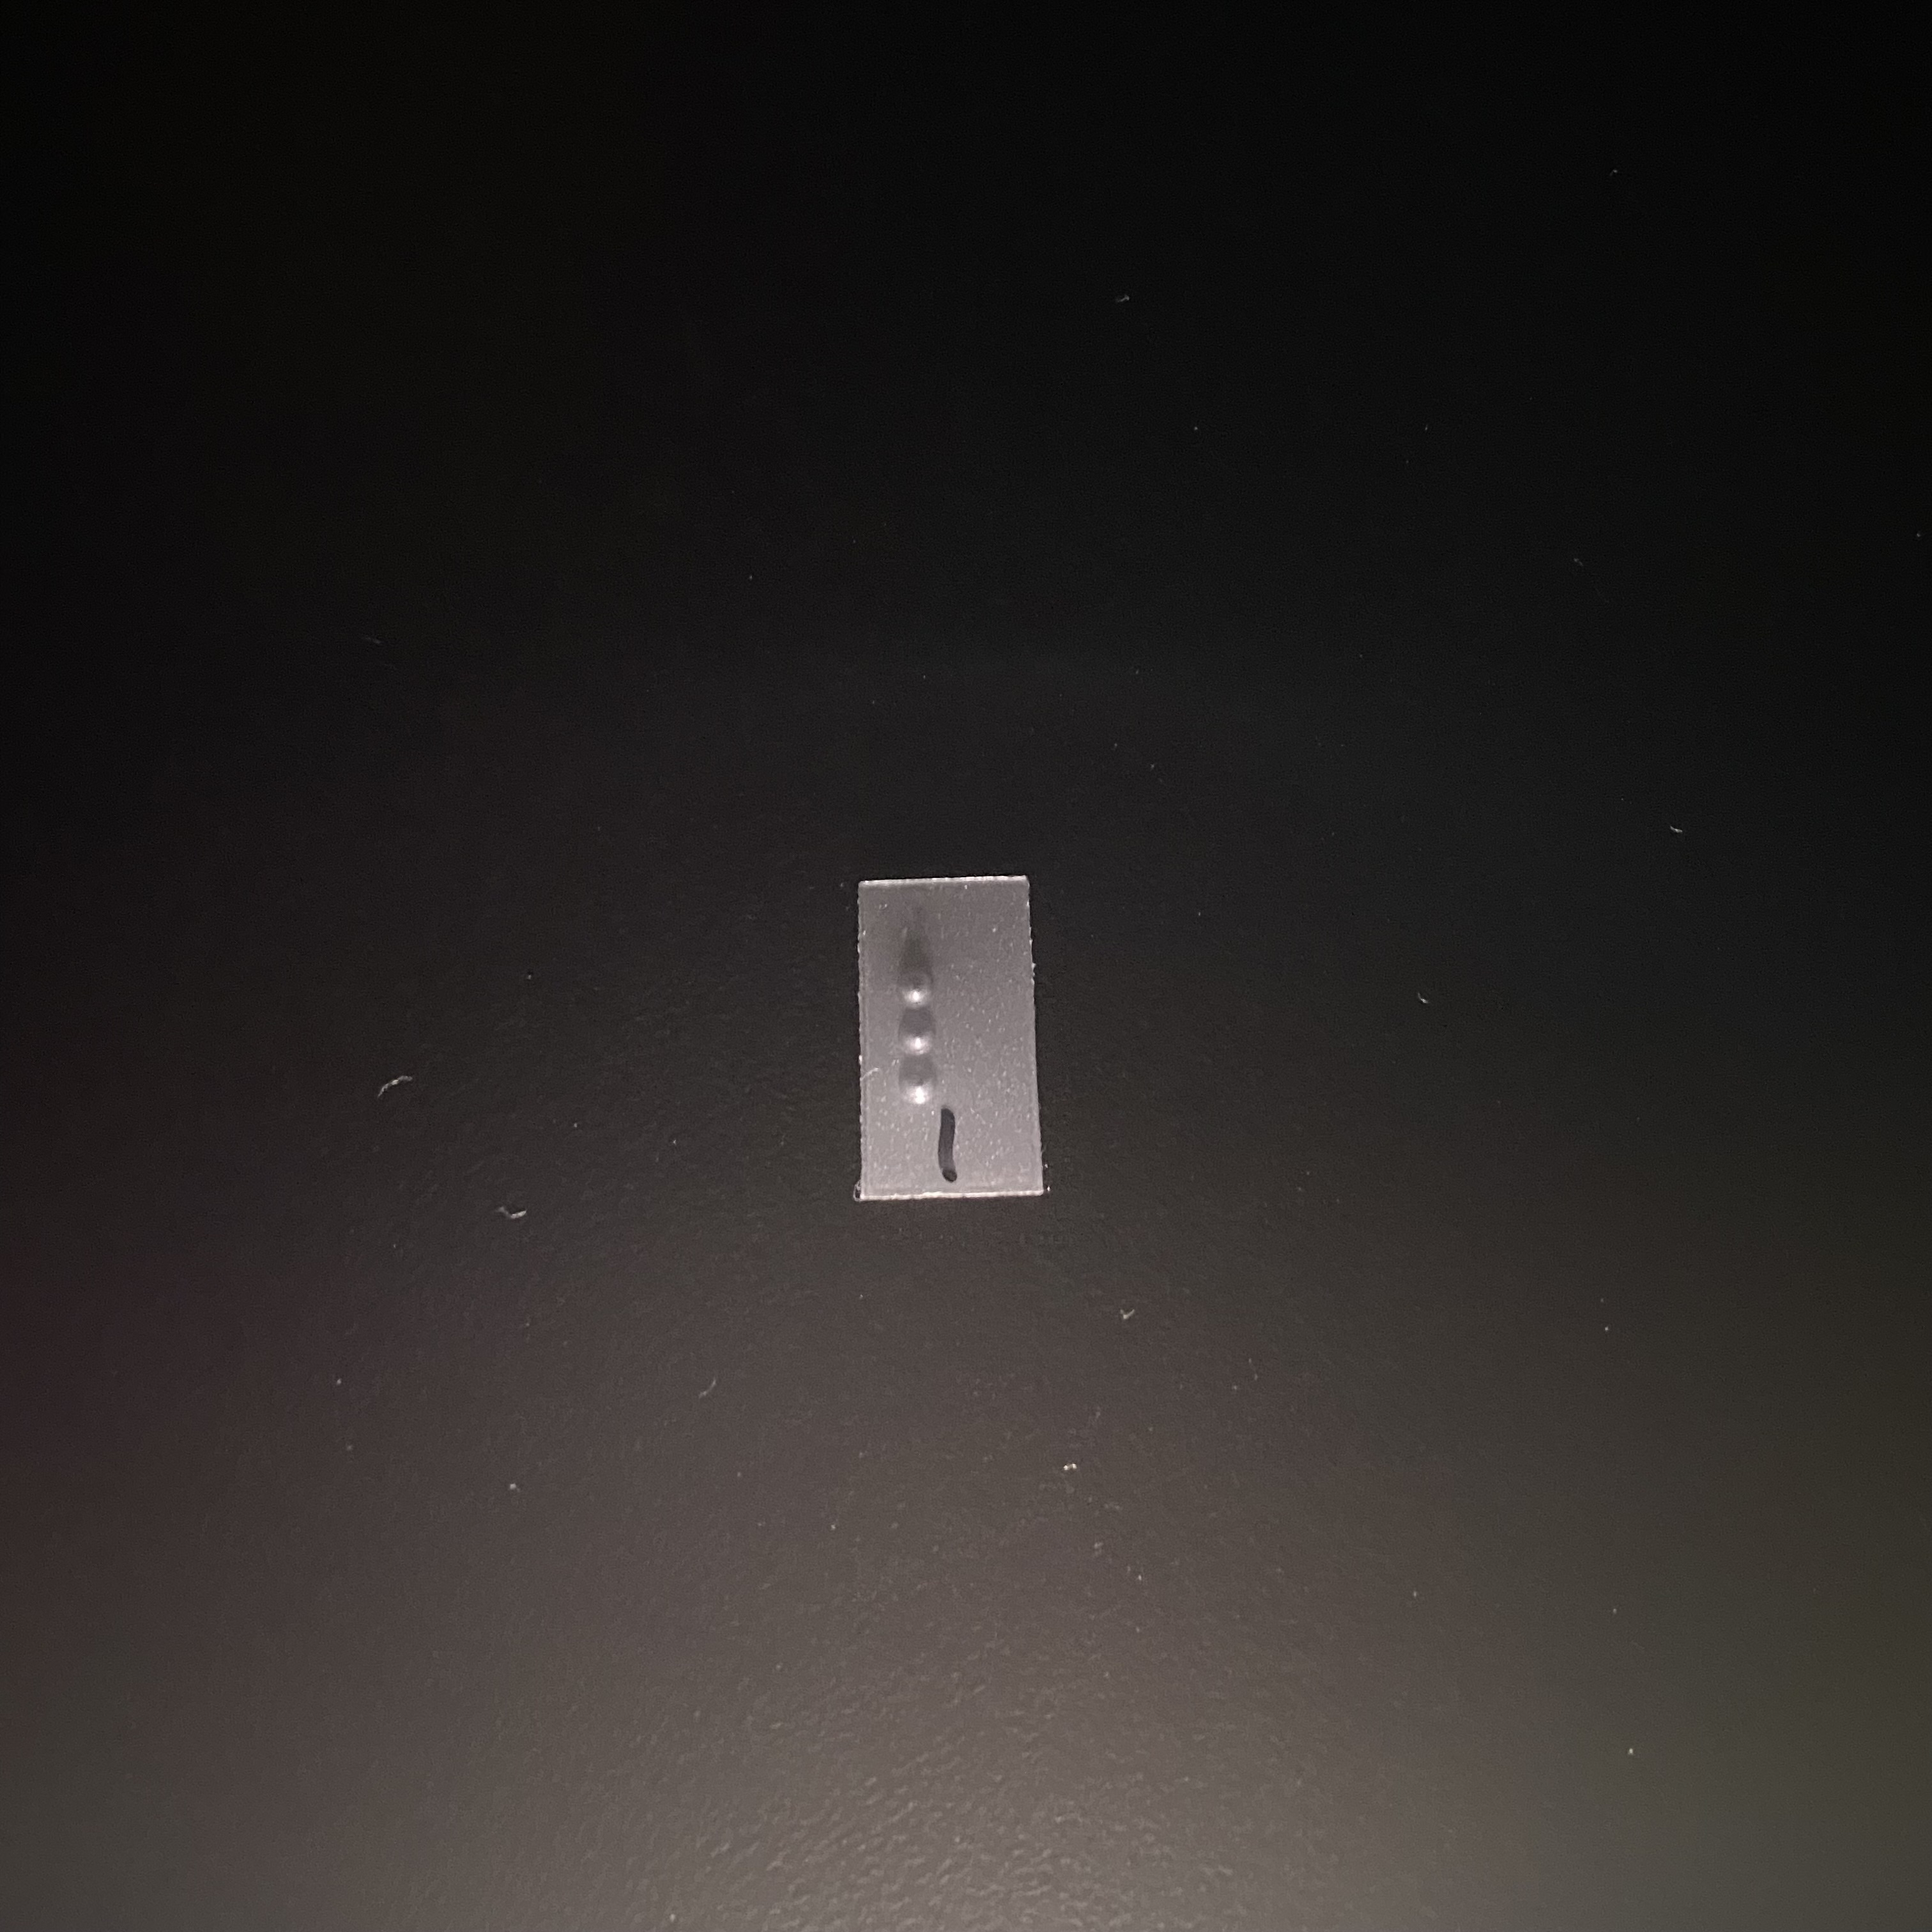l: (893, 943, 1003, 1110)
